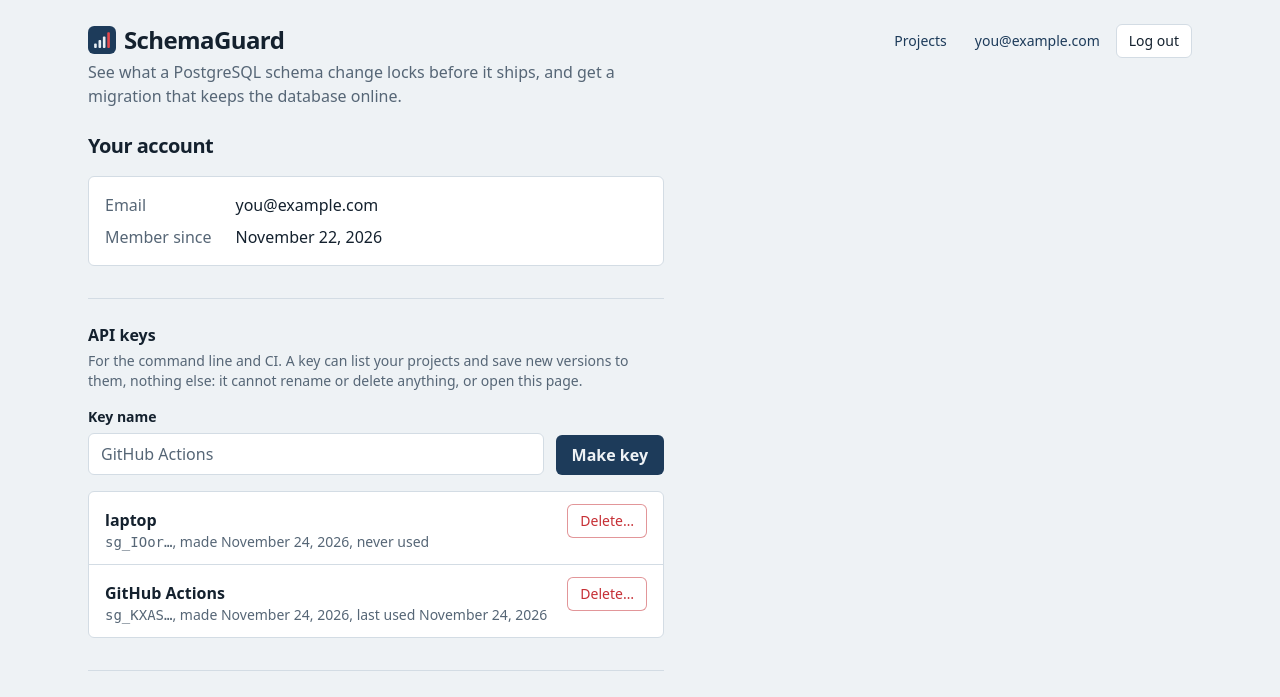
Test: API keys › deletes a key only after asking
Expected: the heading "API keys" is shown, [88,324,156,346]
Click the button "Delete…" next to "never used".
click(607, 521)  # box [567,504,647,538]
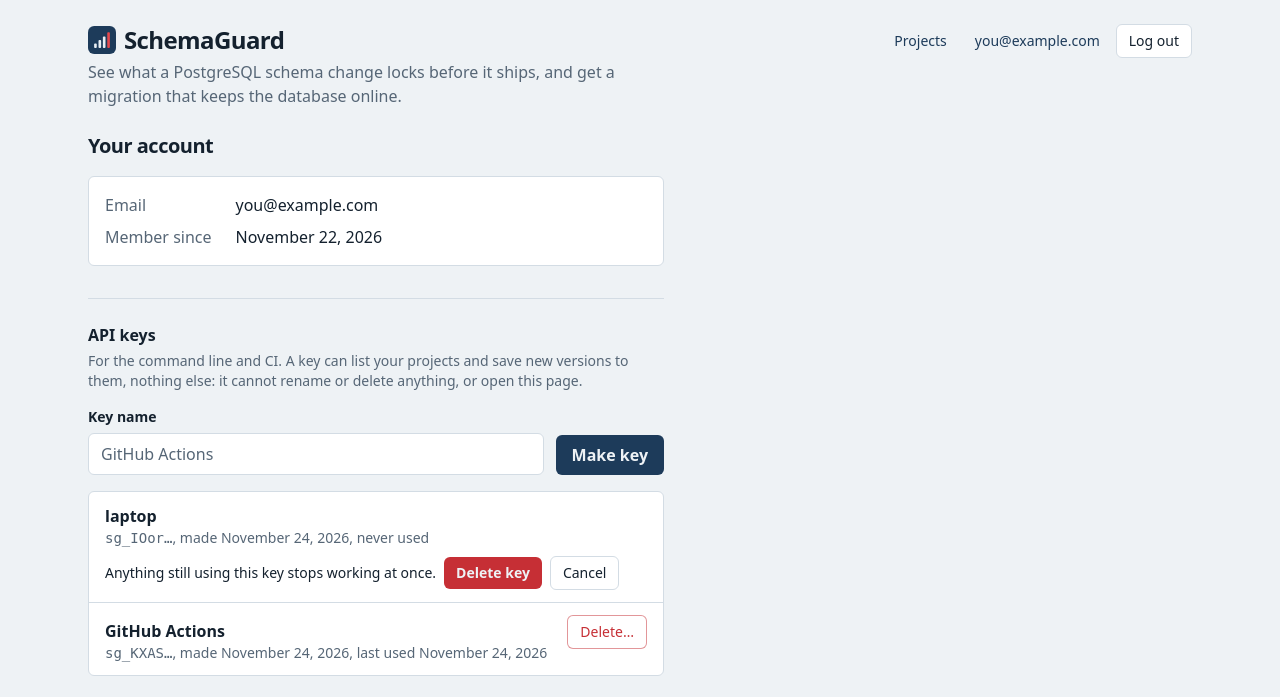
Result: the list item "laptop" shows "Anything still using this key stops working at once." at [105,563,436,582]
Click the button "Cancel".
click(585, 573)  # box [550,556,620,590]
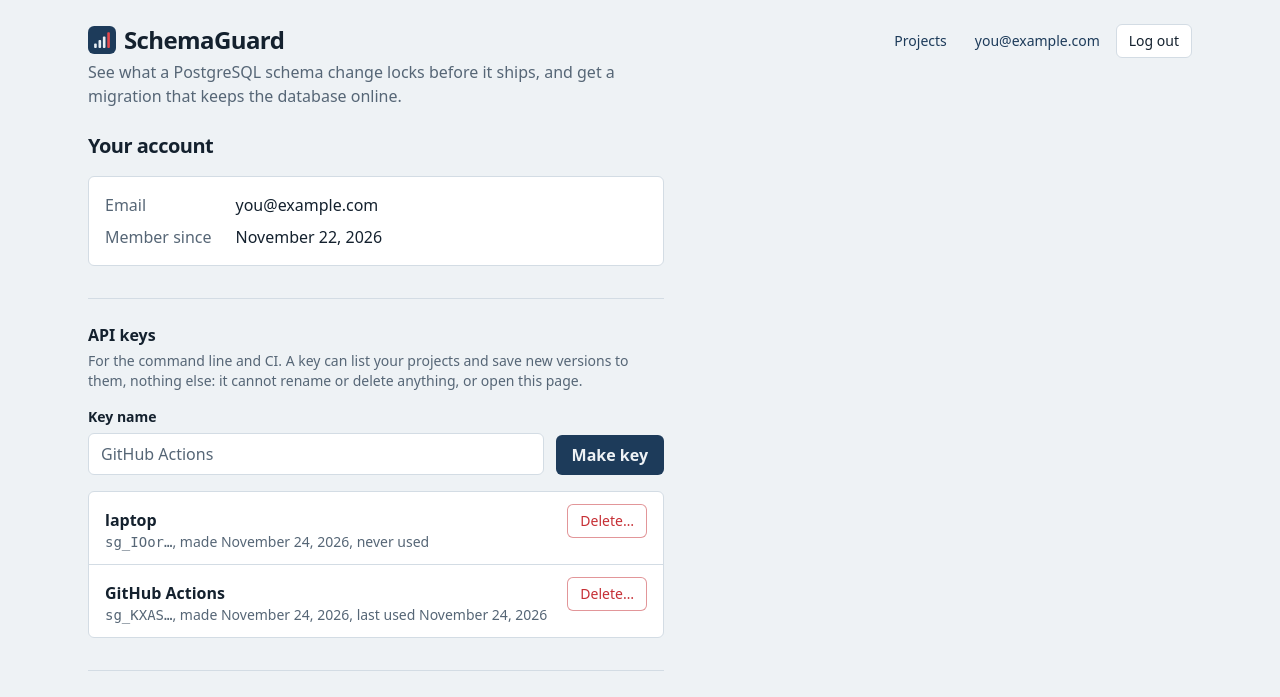
Click the button "Delete…" next to "never used".
click(607, 521)  # box [567,504,647,538]
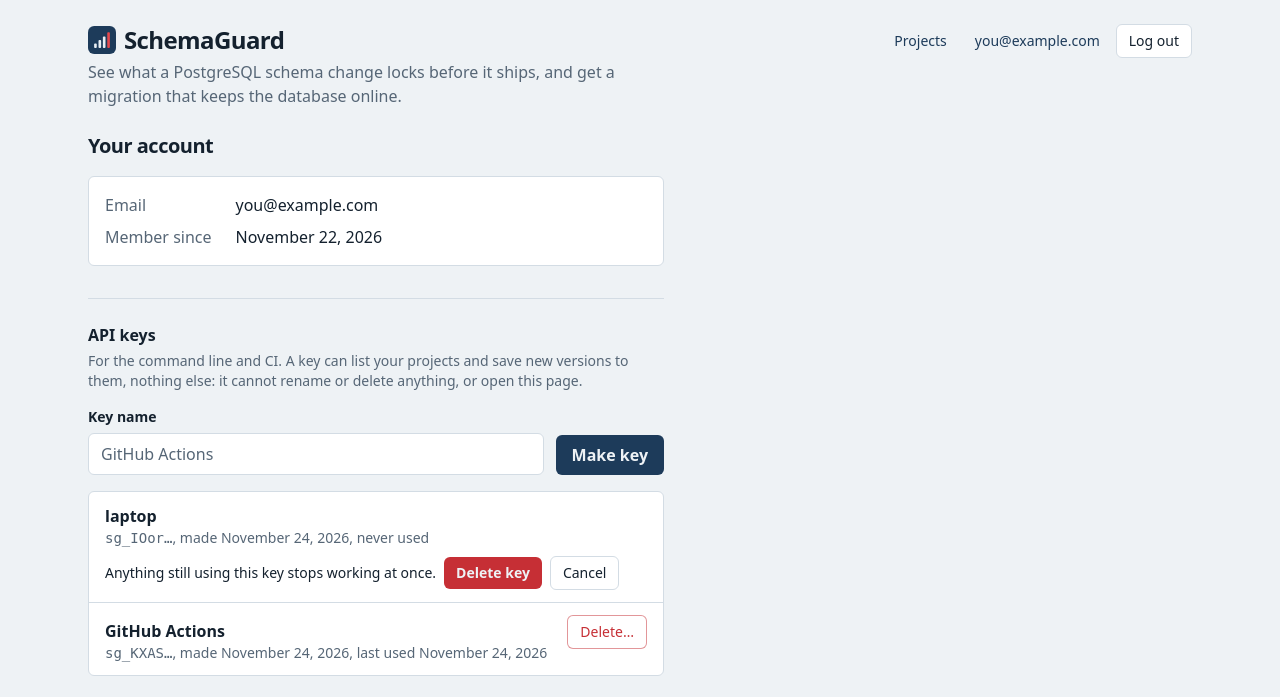
Click the button "Delete key".
click(493, 573)  # box [444,557,542,589]
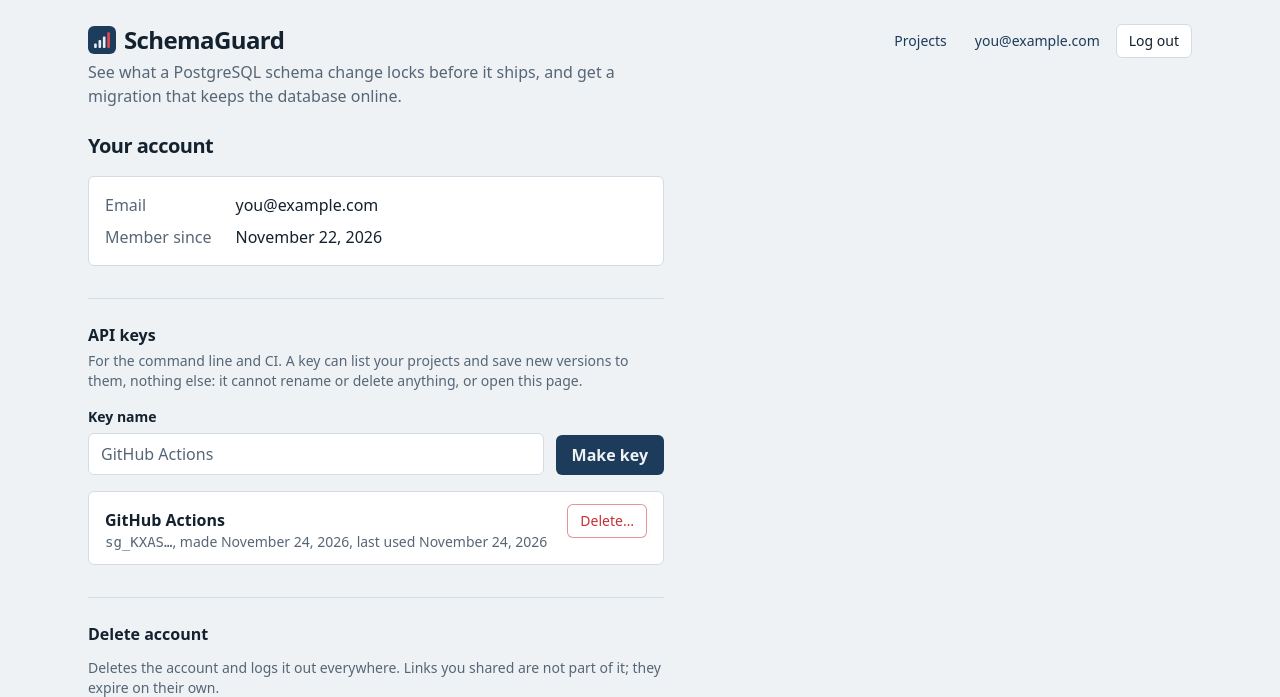
Expected: the list item "GitHub Actions" is shown, [89,492,663,564]
Result: the text "laptop" is gone
